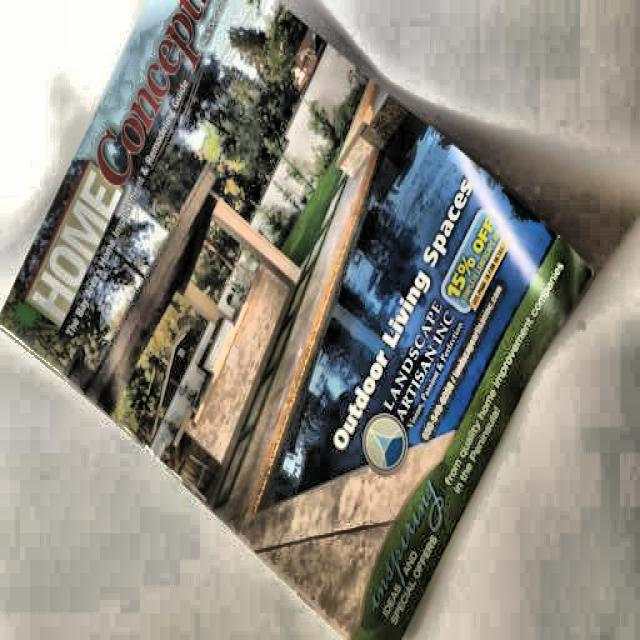paper: (28, 6, 590, 640)
